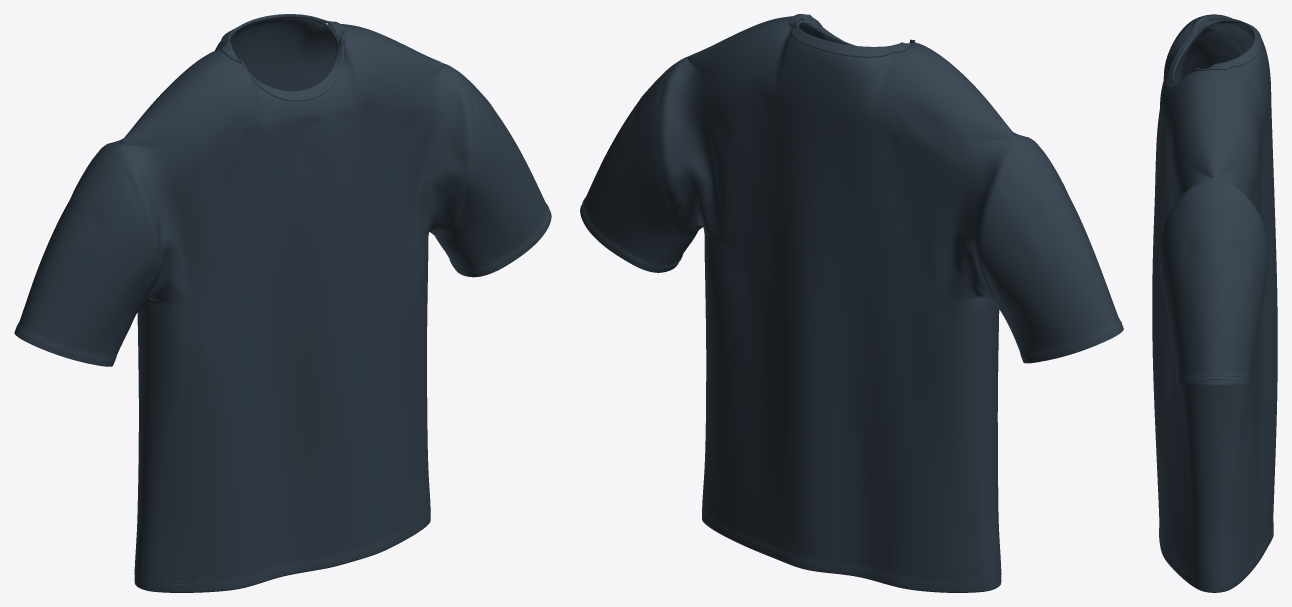
File: tee-heavy.glb
3 renders of one model, left to right at view 1: azimuth 30°, elevation 25°; view 2: azimuth 150°, elevation 25°; view 3: azimuth 270°, elevation 25°, orthographic. The views are drawn at different scales.
Parts seen in each view (by area): view 1: Heavy tee — sewn body and sleeves, Heavy ribbed crew neck; view 2: Heavy tee — sewn body and sleeves, Heavy ribbed crew neck; view 3: Heavy tee — sewn body and sleeves, Heavy ribbed crew neck.
Part boxes in pixels (<box>): Heavy tee — sewn body and sleeves: <box>14,15,551,592</box>; Heavy ribbed crew neck: <box>220,14,345,101</box>; Heavy tee — sewn body and sleeves: <box>580,16,1123,592</box>; Heavy ribbed crew neck: <box>788,14,915,57</box>; Heavy tee — sewn body and sleeves: <box>1152,14,1277,592</box>; Heavy ribbed crew neck: <box>1166,15,1261,88</box>.
Bounding box in the file's own units: 1.92 × 1.8 × 0.4183.
